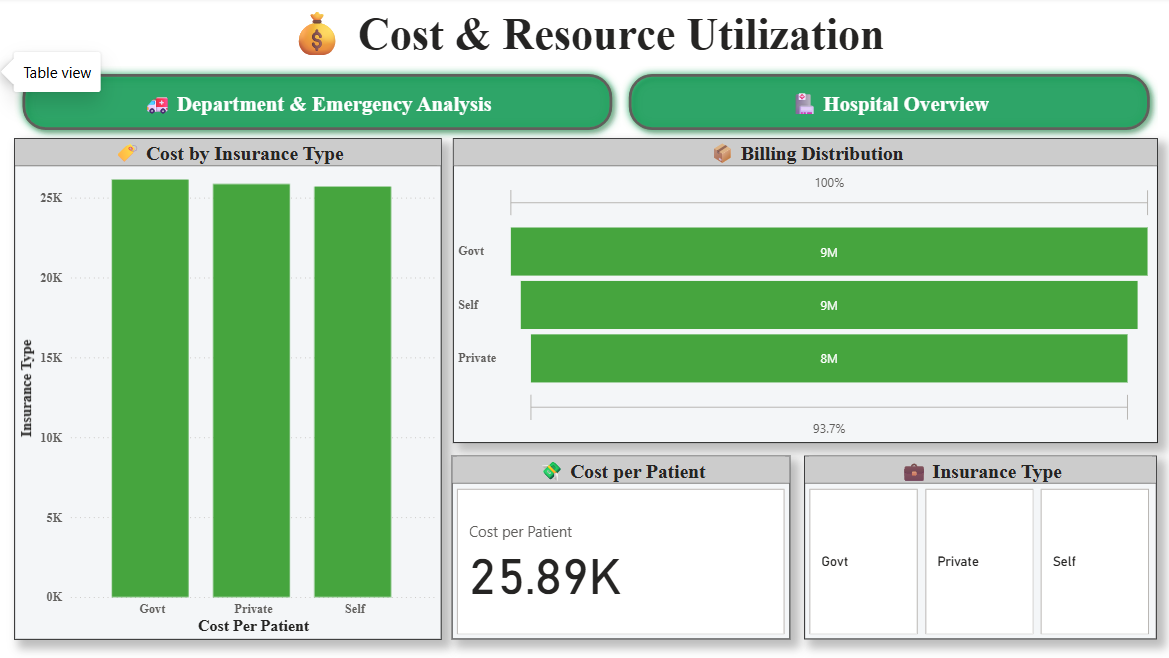

Layout of this report page (visuals, bound fields, positions):
{"tool":"powerbi","page":{"name":"💰 Cost & Resource Utilization","canvas":[1280,720],"ordinal":2},"visuals":[{"type":"textbox","box":[0,0,1280.3,79],"z":0},{"type":"columnChart","title":"🏷️ Cost by Insurance Type","fields":{"Category":["Patients.insurance_type"],"Y":["Billings.Cost per Patient"]},"box":[17.7,153.9,465.8,546.2],"z":1000},{"type":"funnel","title":"📦 Billing Distribution","fields":{"Y":["Sum(Billings.total_cost)"],"Category":["Patients.insurance_type"]},"box":[495.8,153.9,768.2,332.3],"z":2000},{"type":"cardVisual","title":"💸 Cost per Patient","fields":{"Data":["Billings.Cost per Patient"]},"box":[494,499.5,369.1,200.3],"z":3000},{"type":"advancedSlicerVisual","title":"💼 Insurance Type","fields":{"Values":["Patients.insurance_type"]},"box":[878.2,499.5,384.2,200.3],"z":4000},{"type":"actionButton","title":"🚑 Department & Emergency Analysis","box":[17.7,74.9,660.6,79],"z":5000},{"type":"actionButton","title":"🚑 Department & Emergency Analysis","box":[678.3,74.9,585.7,79],"z":6000}]}

Visuals, with their boxes in screenshot pixels (x1, y1, x2, y2), scaled from the page's 1280x720 canvas onto the 1169x658 screenshot:
textbox: l=0, t=0, r=1168, b=72
"🏷️ Cost by Insurance Type" columnChart: l=16, t=141, r=442, b=640
"📦 Billing Distribution" funnel: l=453, t=141, r=1154, b=444
"💸 Cost per Patient" cardVisual: l=451, t=456, r=788, b=640
"💼 Insurance Type" advancedSlicerVisual: l=802, t=456, r=1153, b=640
"🚑 Department & Emergency Analysis" actionButton: l=16, t=68, r=619, b=141
"🚑 Department & Emergency Analysis" actionButton: l=619, t=68, r=1154, b=141
